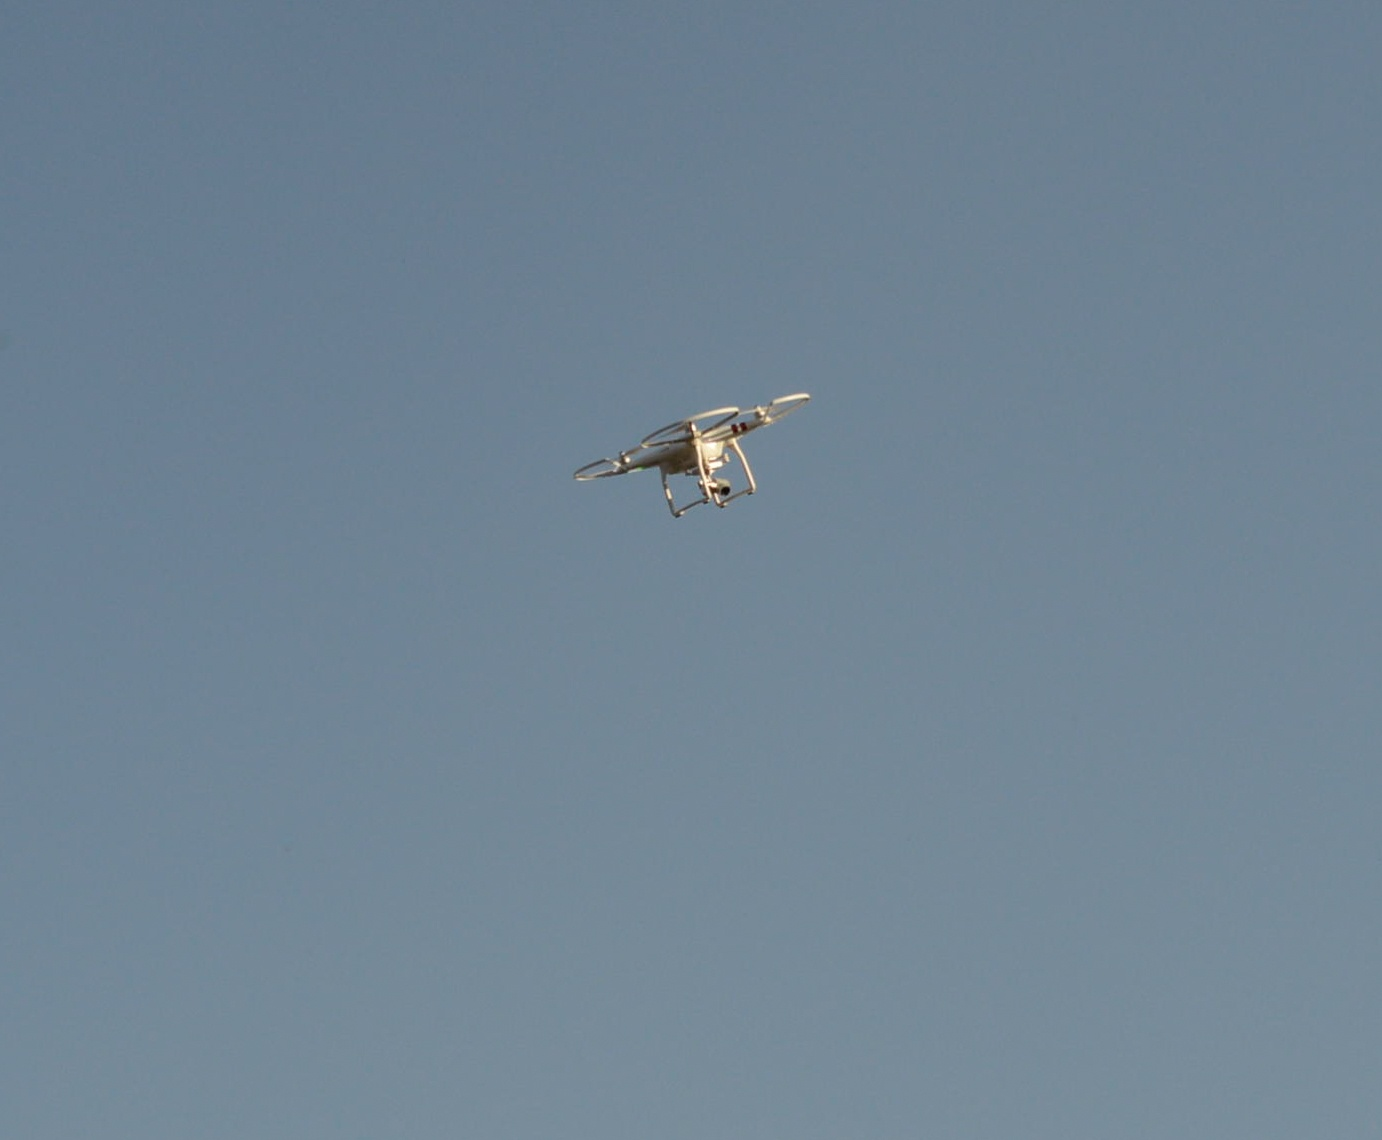DJI: (570, 391, 810, 515)
